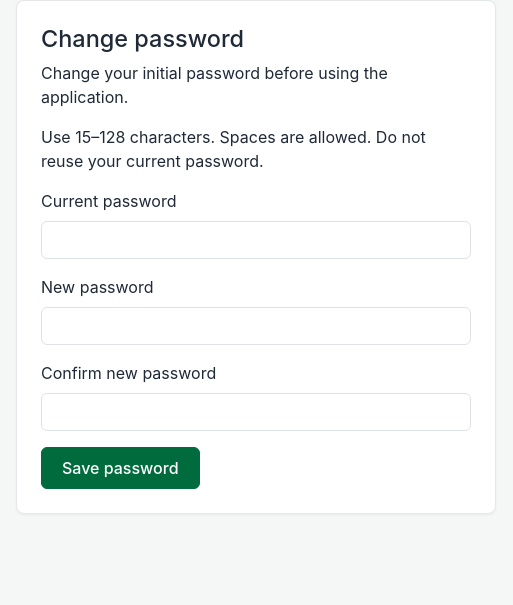
Test: UI-02 Change password › provides no bypass in mandatory mode and rejects mismatched confirmation
Type "Initial password 123" into the password field labelled "Current password" at (256, 240), box [41, 221, 471, 259]
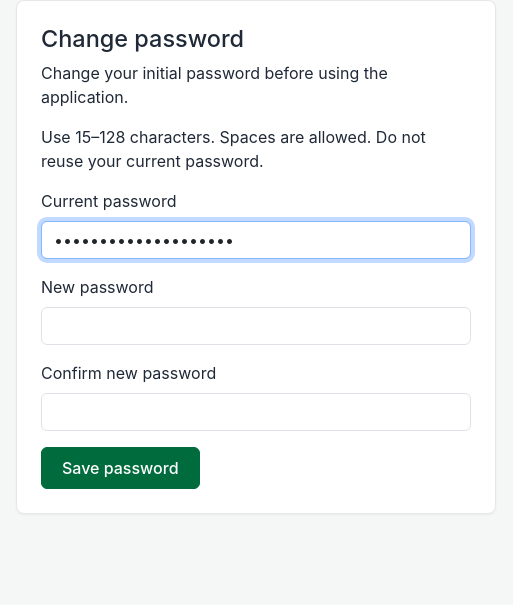
Type "Changed password 456" into the password field labelled "New password" at (256, 326), box [41, 307, 471, 345]
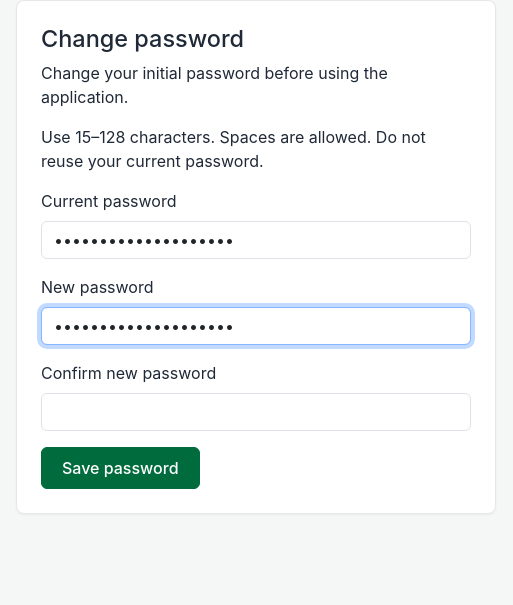
Type "Different password 789" into the password field labelled "Confirm new password" at (256, 412), box [41, 393, 471, 431]
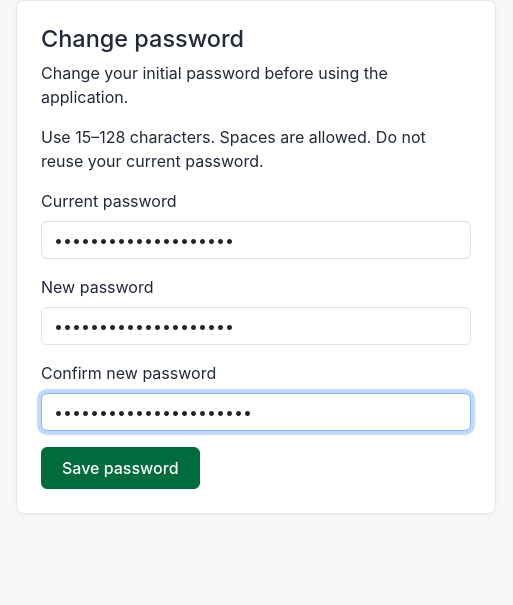
Click the button "Save password" at (120, 468), box [41, 447, 200, 489]
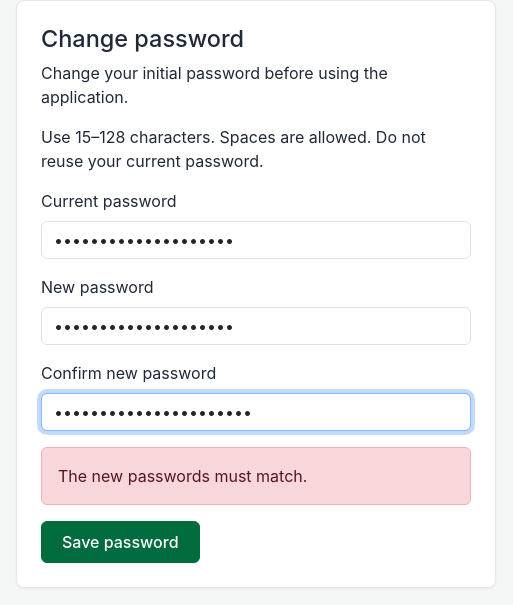
Now the message shows "match", box [58, 466, 307, 486]
